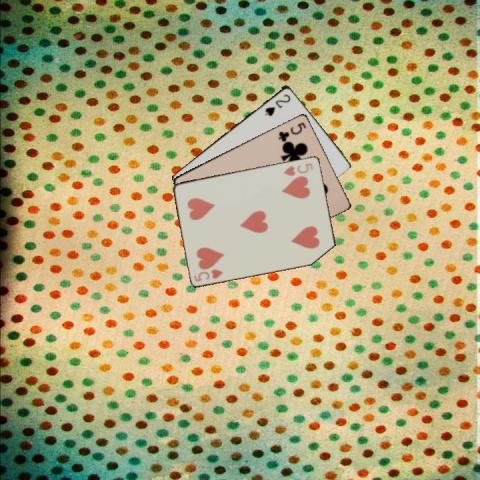2s: (262, 91, 292, 117)
5c: (276, 119, 308, 142)
5h: (280, 160, 314, 177), (191, 266, 225, 283)
